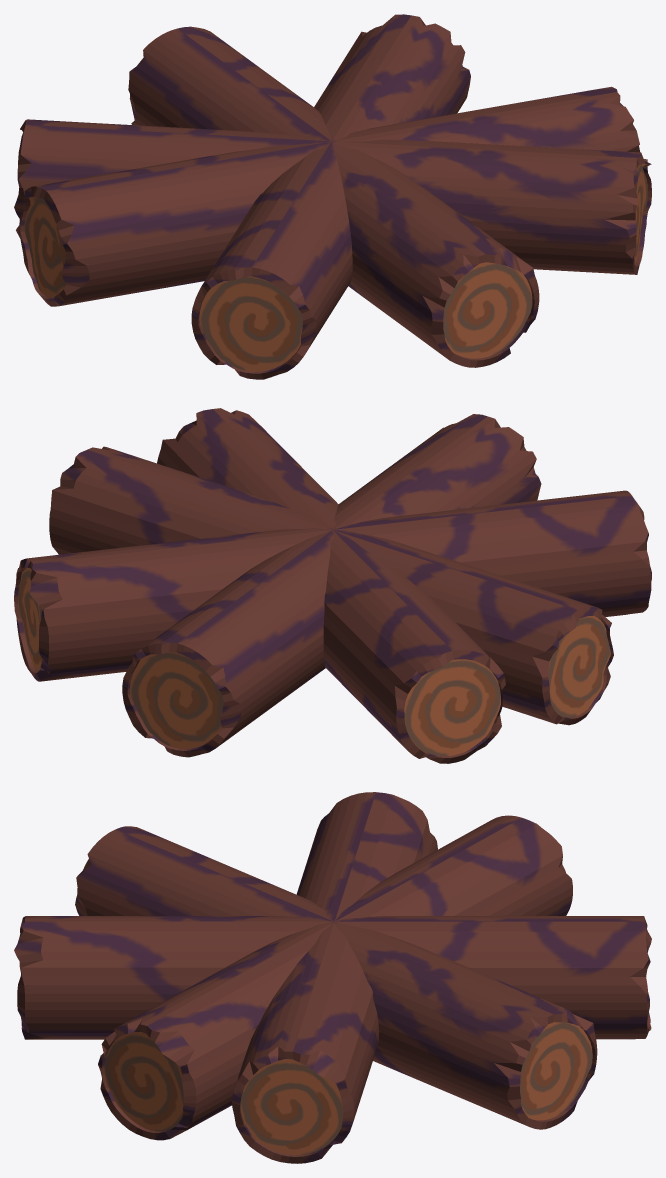
File: CampFire.fbx
3 renders of one model, top to bottom at view 1: azimuth 30°, elevation 25°; view 2: azimuth 150°, elevation 25°; view 3: azimuth 270°, elevation 25°, orthographic.
Visible parts, largest first — view 1: Cylinder.004; view 2: Cylinder.004; view 3: Cylinder.004.
Part boxes in pixels (left/top/right/bottom): Cylinder.004: left=14, top=14, right=651, bottom=379; Cylinder.004: left=14, top=408, right=651, bottom=763; Cylinder.004: left=14, top=792, right=651, bottom=1163.
Bounding box in the file's own units: 1034 × 200 × 1030.
